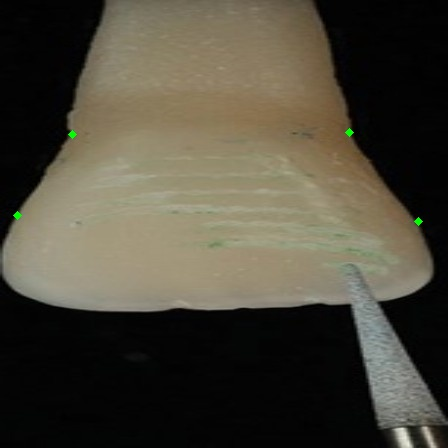coin_1: (72, 134, 92, 154)
coin_2: (17, 215, 37, 235)
coin_3: (349, 132, 369, 152)
coin_4: (418, 221, 438, 241)
